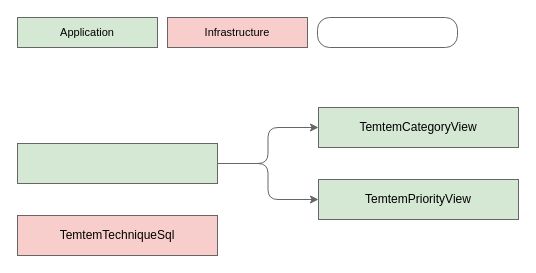
The diagram is 536 pixels wide and 273 high, and some of its shapes have lost their labels. Each missing label, with the box of its shape:
Port (interface): (316, 16, 458, 48)
TemtemTechniqueView: (16, 142, 218, 184)
